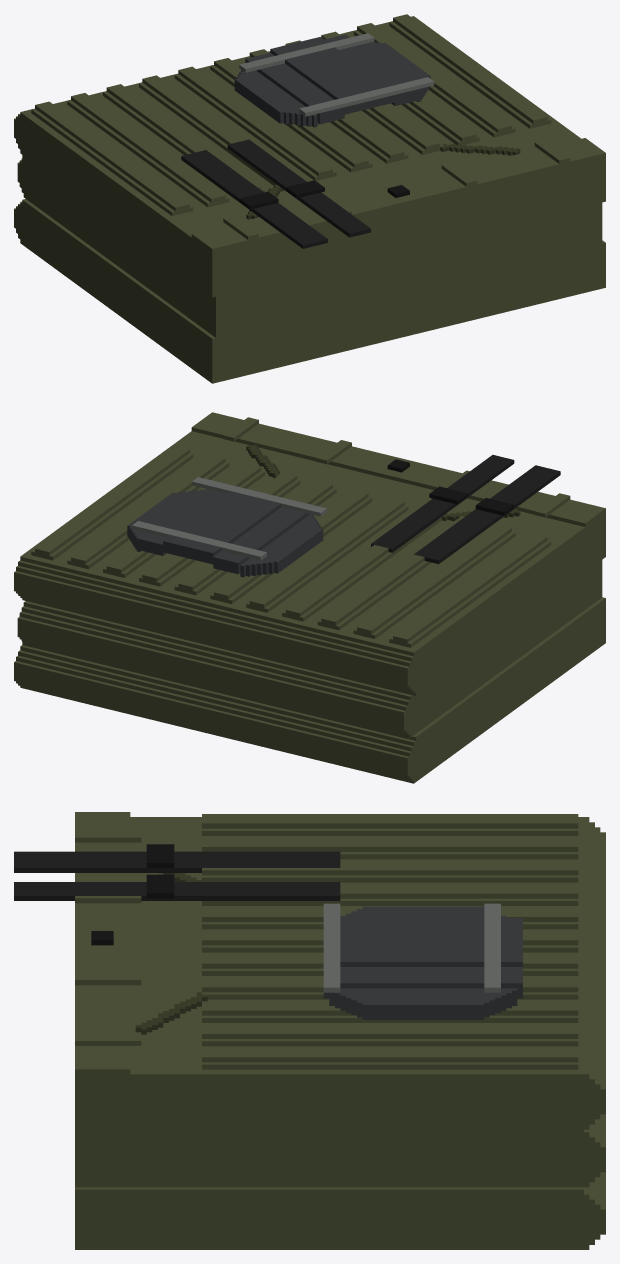
Rendered from eod_trousers.glb.
The picture shows the model from 3 angles, top to bottom: view 1: azimuth 30°, elevation 25°; view 2: azimuth 150°, elevation 25°; view 3: azimuth 270°, elevation 25°; orthographic projection. The views are drawn at different scales.
Visible parts, largest first — view 1: eod_trousers:compound; view 2: eod_trousers:compound; view 3: eod_trousers:compound.
Boxes of the visible parts, bbox=[...] form: eod_trousers:compound: bbox=[14, 14, 605, 383]; eod_trousers:compound: bbox=[14, 412, 605, 783]; eod_trousers:compound: bbox=[14, 812, 605, 1249].
Bounding box in the file's own units: 0.44 × 0.168 × 0.428.
